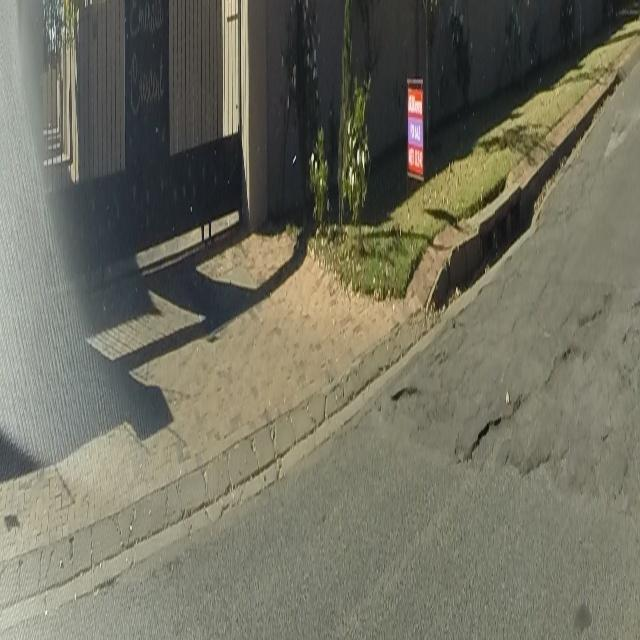pothole: (452, 398, 524, 478), (540, 334, 578, 404), (388, 379, 422, 412), (576, 300, 601, 336)
